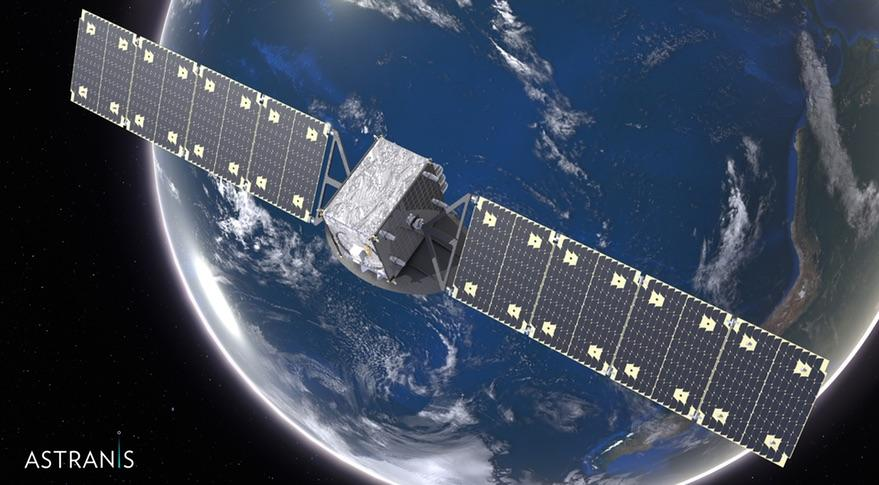antenna: (323, 208, 471, 297)
body: (320, 132, 451, 287)
solar: (449, 191, 832, 472), (68, 5, 335, 226)
